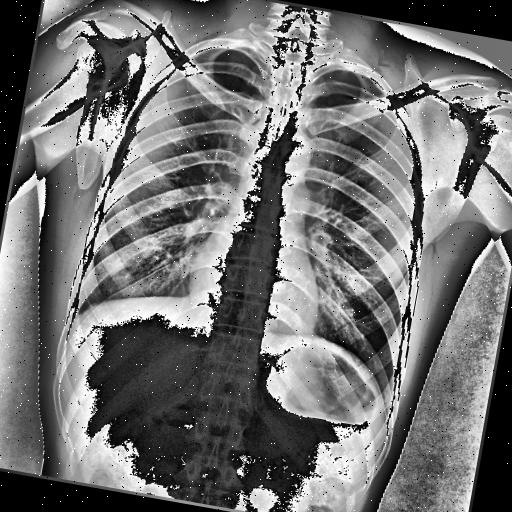10- Pleural effusion: (65, 290, 92, 334), (66, 294, 95, 334)
11- Pleural thickening: (65, 290, 92, 334), (66, 294, 95, 334), (62, 308, 86, 340)
